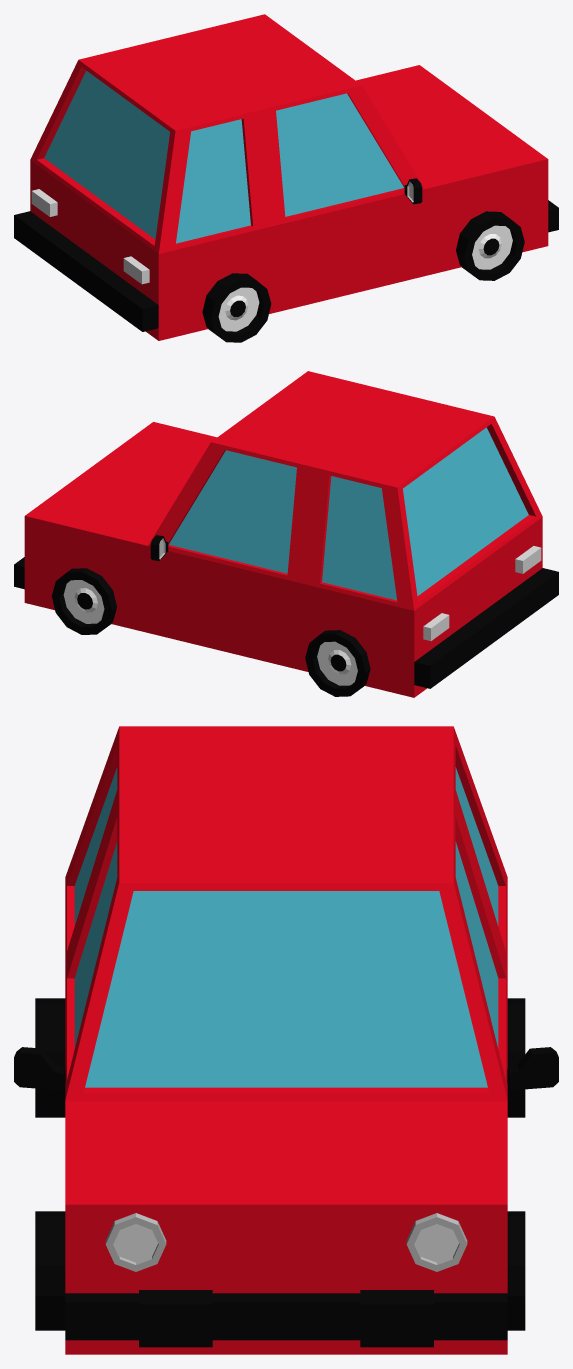
File: car.fbx
3 views of the same model, one above another, from view 1: azimuth 30°, elevation 25°; view 2: azimuth 150°, elevation 25°; view 3: azimuth 270°, elevation 25° (orthographic). The views are drawn at different scales.
Visible parts, largest first — view 1: MainCar, Wheel; view 2: MainCar, Wheel; view 3: MainCar, Wheel, Light.
Boxes of the visible parts, <box> form: MainCar: <box>14,14,558,340</box>; Wheel: <box>202,211,524,342</box>; MainCar: <box>14,371,558,697</box>; Wheel: <box>51,568,370,696</box>; MainCar: <box>14,726,558,1354</box>; Wheel: <box>35,998,525,1330</box>; Light: <box>105,1213,467,1271</box>.
Size of the model in its own units: 3.79 by 2.46 by 1.75.
